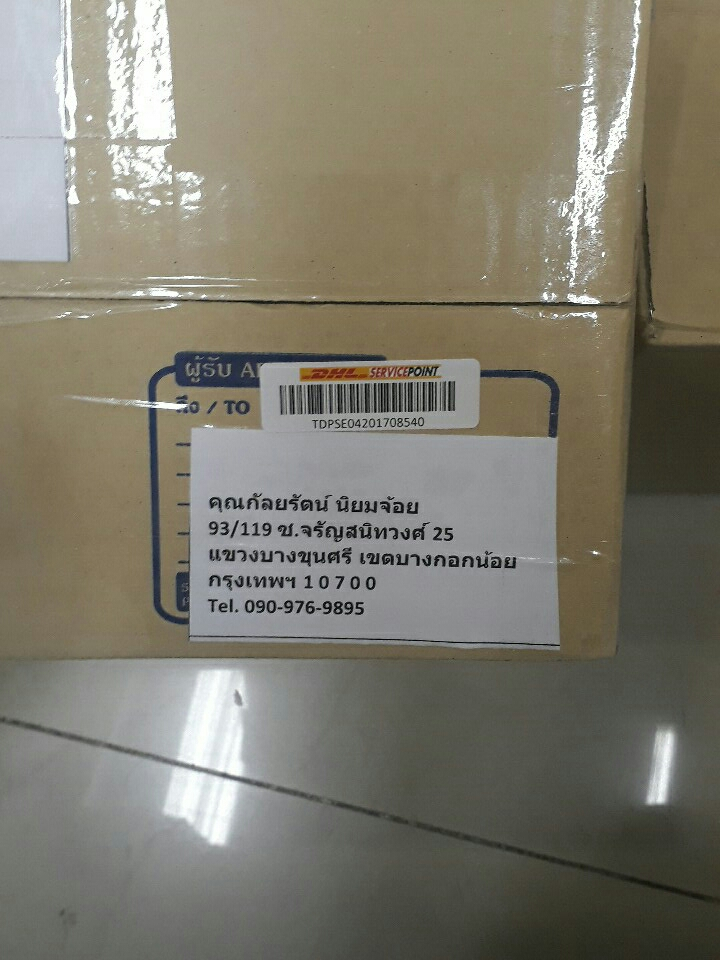ba: (253, 351, 488, 437)
txt: (202, 488, 529, 636)
